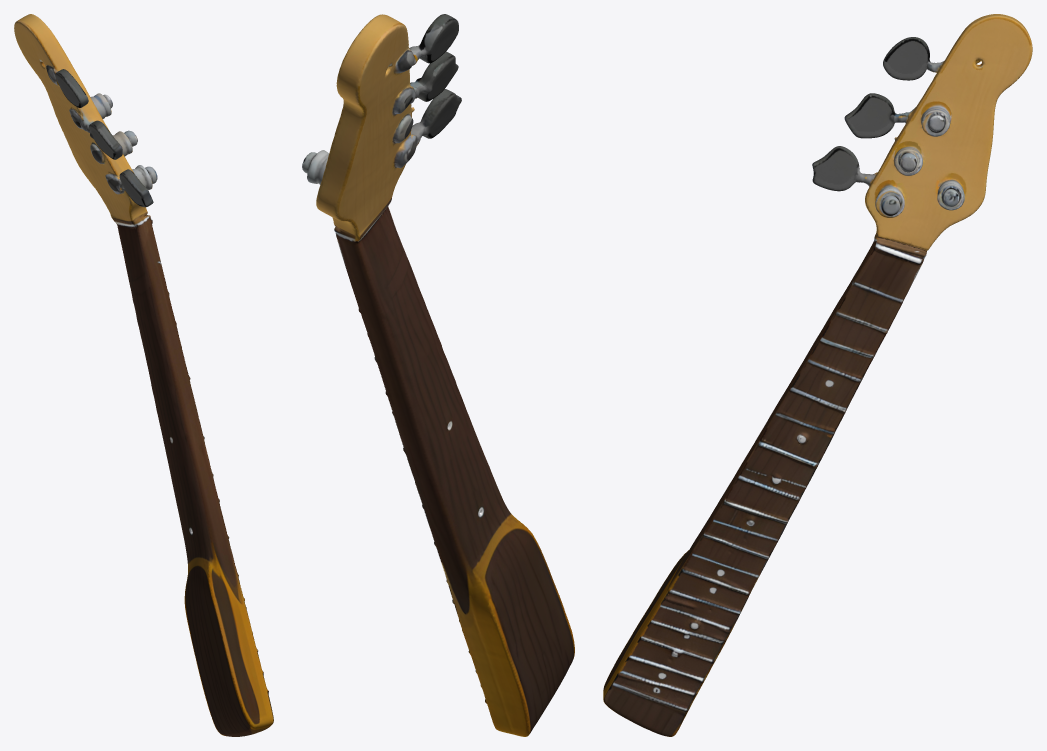
The model's file is bass-neck.glb.
3 renders of one model, left to right at view 1: azimuth 30°, elevation 25°; view 2: azimuth 150°, elevation 25°; view 3: azimuth 270°, elevation 25°, orthographic. The views are drawn at different scales.
Parts seen in each view (by area): view 1: vrin_node_3684d53f-1a72-47e5-a381-18045abaf03b; view 2: vrin_node_3684d53f-1a72-47e5-a381-18045abaf03b; view 3: vrin_node_3684d53f-1a72-47e5-a381-18045abaf03b.
Part boxes in pixels (x1,y1,x2,y2): vrin_node_3684d53f-1a72-47e5-a381-18045abaf03b: (14,14,273,736); vrin_node_3684d53f-1a72-47e5-a381-18045abaf03b: (302,14,574,736); vrin_node_3684d53f-1a72-47e5-a381-18045abaf03b: (603,14,1032,736).
Size of the model in its own units: 0.1447 by 1 by 0.5645.
1 material, 1 textured.
